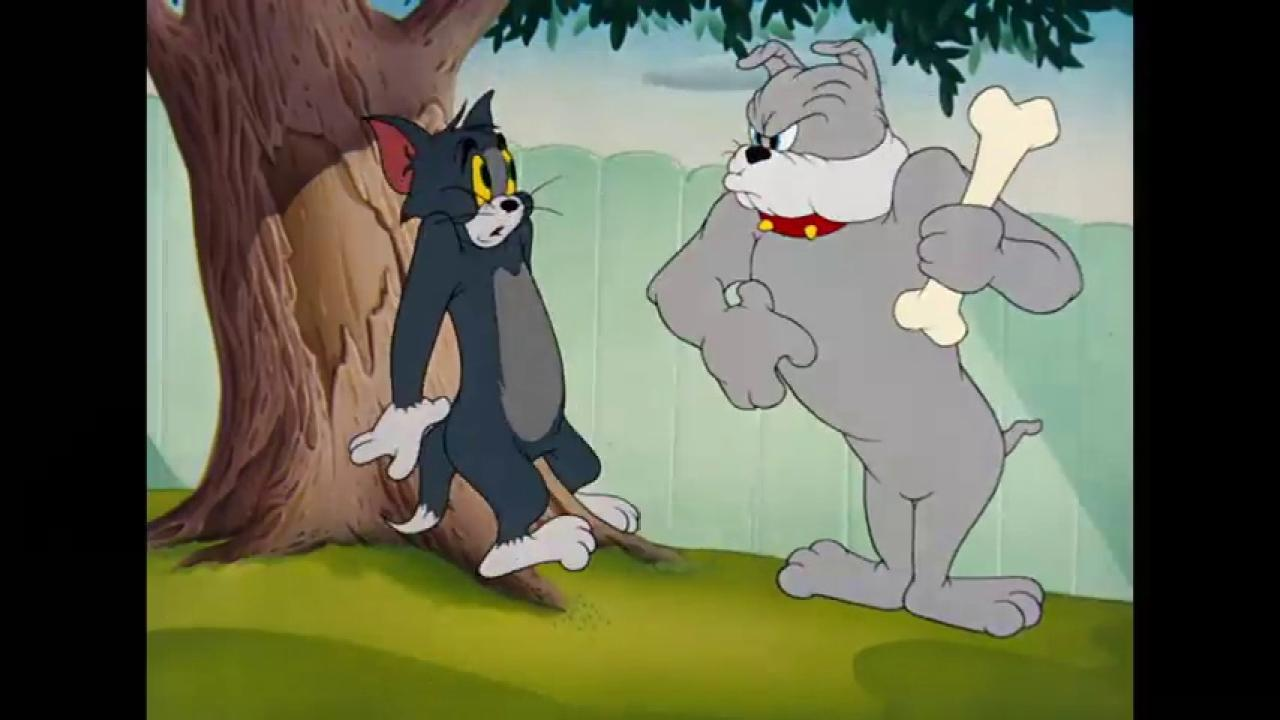Tom: (344, 85, 642, 581)
